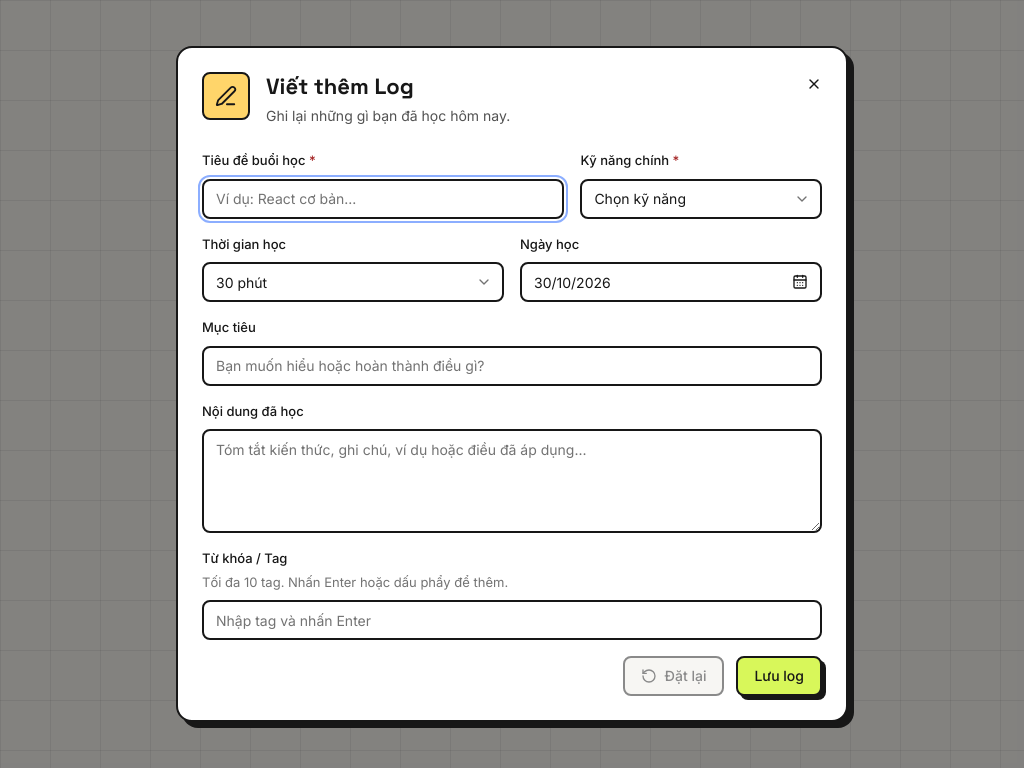
it: validation › requires the title and the skill, with the messages beside the fields
Click the button "Lưu log": {"x": 779, "y": 676} [736, 656, 822, 696]
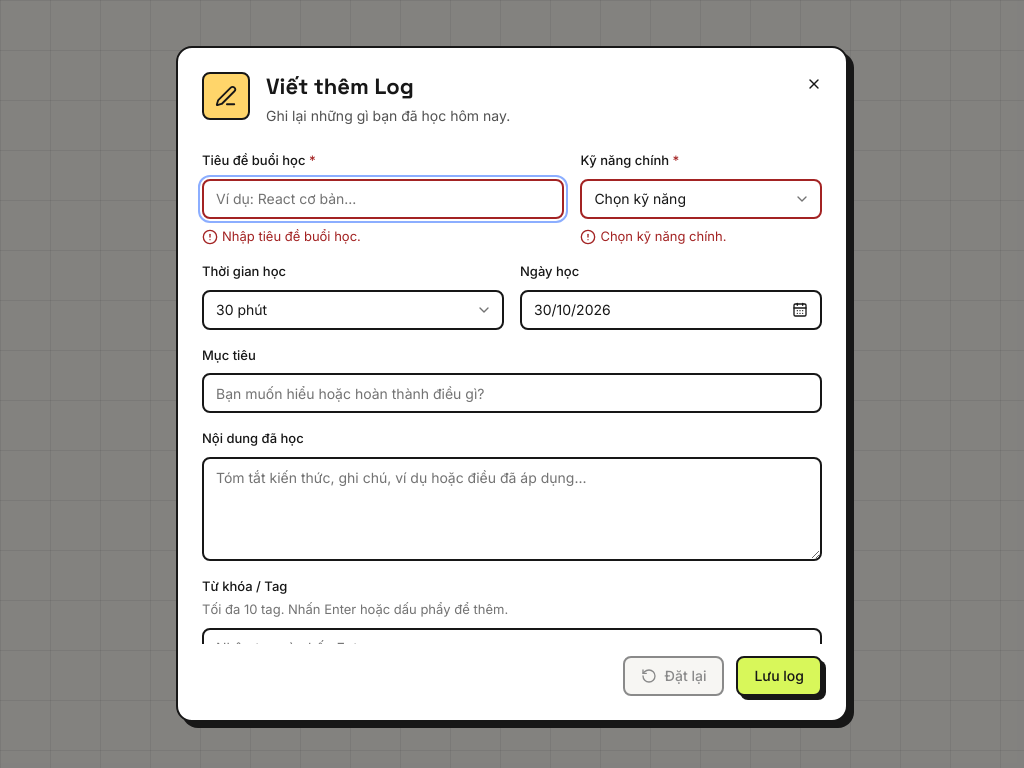
Check: the text "Nhập tiêu đề buổi học." is shown, box [222, 227, 361, 246]
Check: the text "Chọn kỹ năng chính." is shown, box [600, 227, 726, 246]
